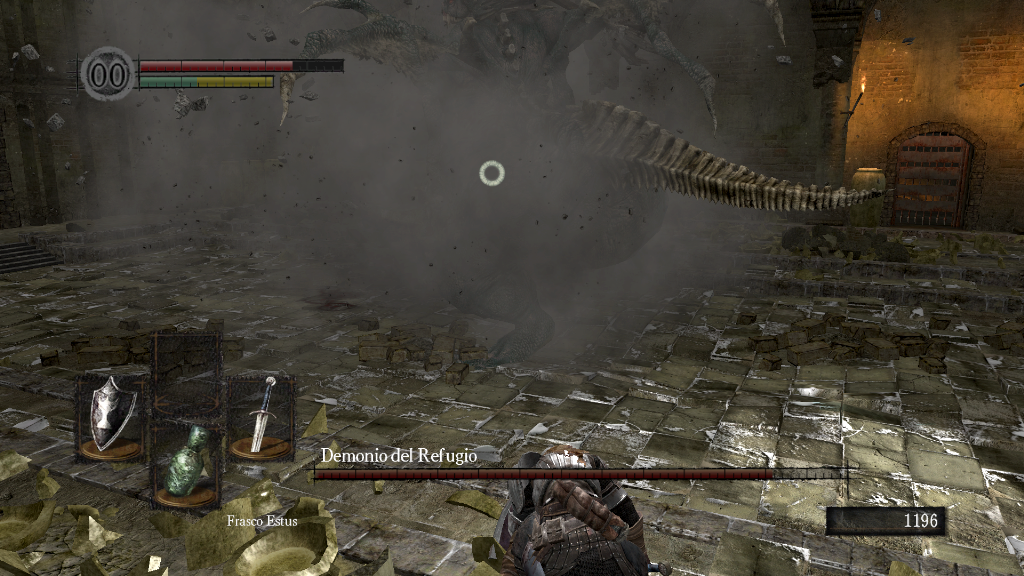asylumDemon: (275, 2, 902, 358)
bossHP: (314, 469, 847, 479)
health: (138, 58, 343, 71)
humanity: (80, 45, 136, 102)
player: (489, 442, 674, 576)
souls: (825, 506, 945, 536)
stamina: (138, 74, 274, 88)
